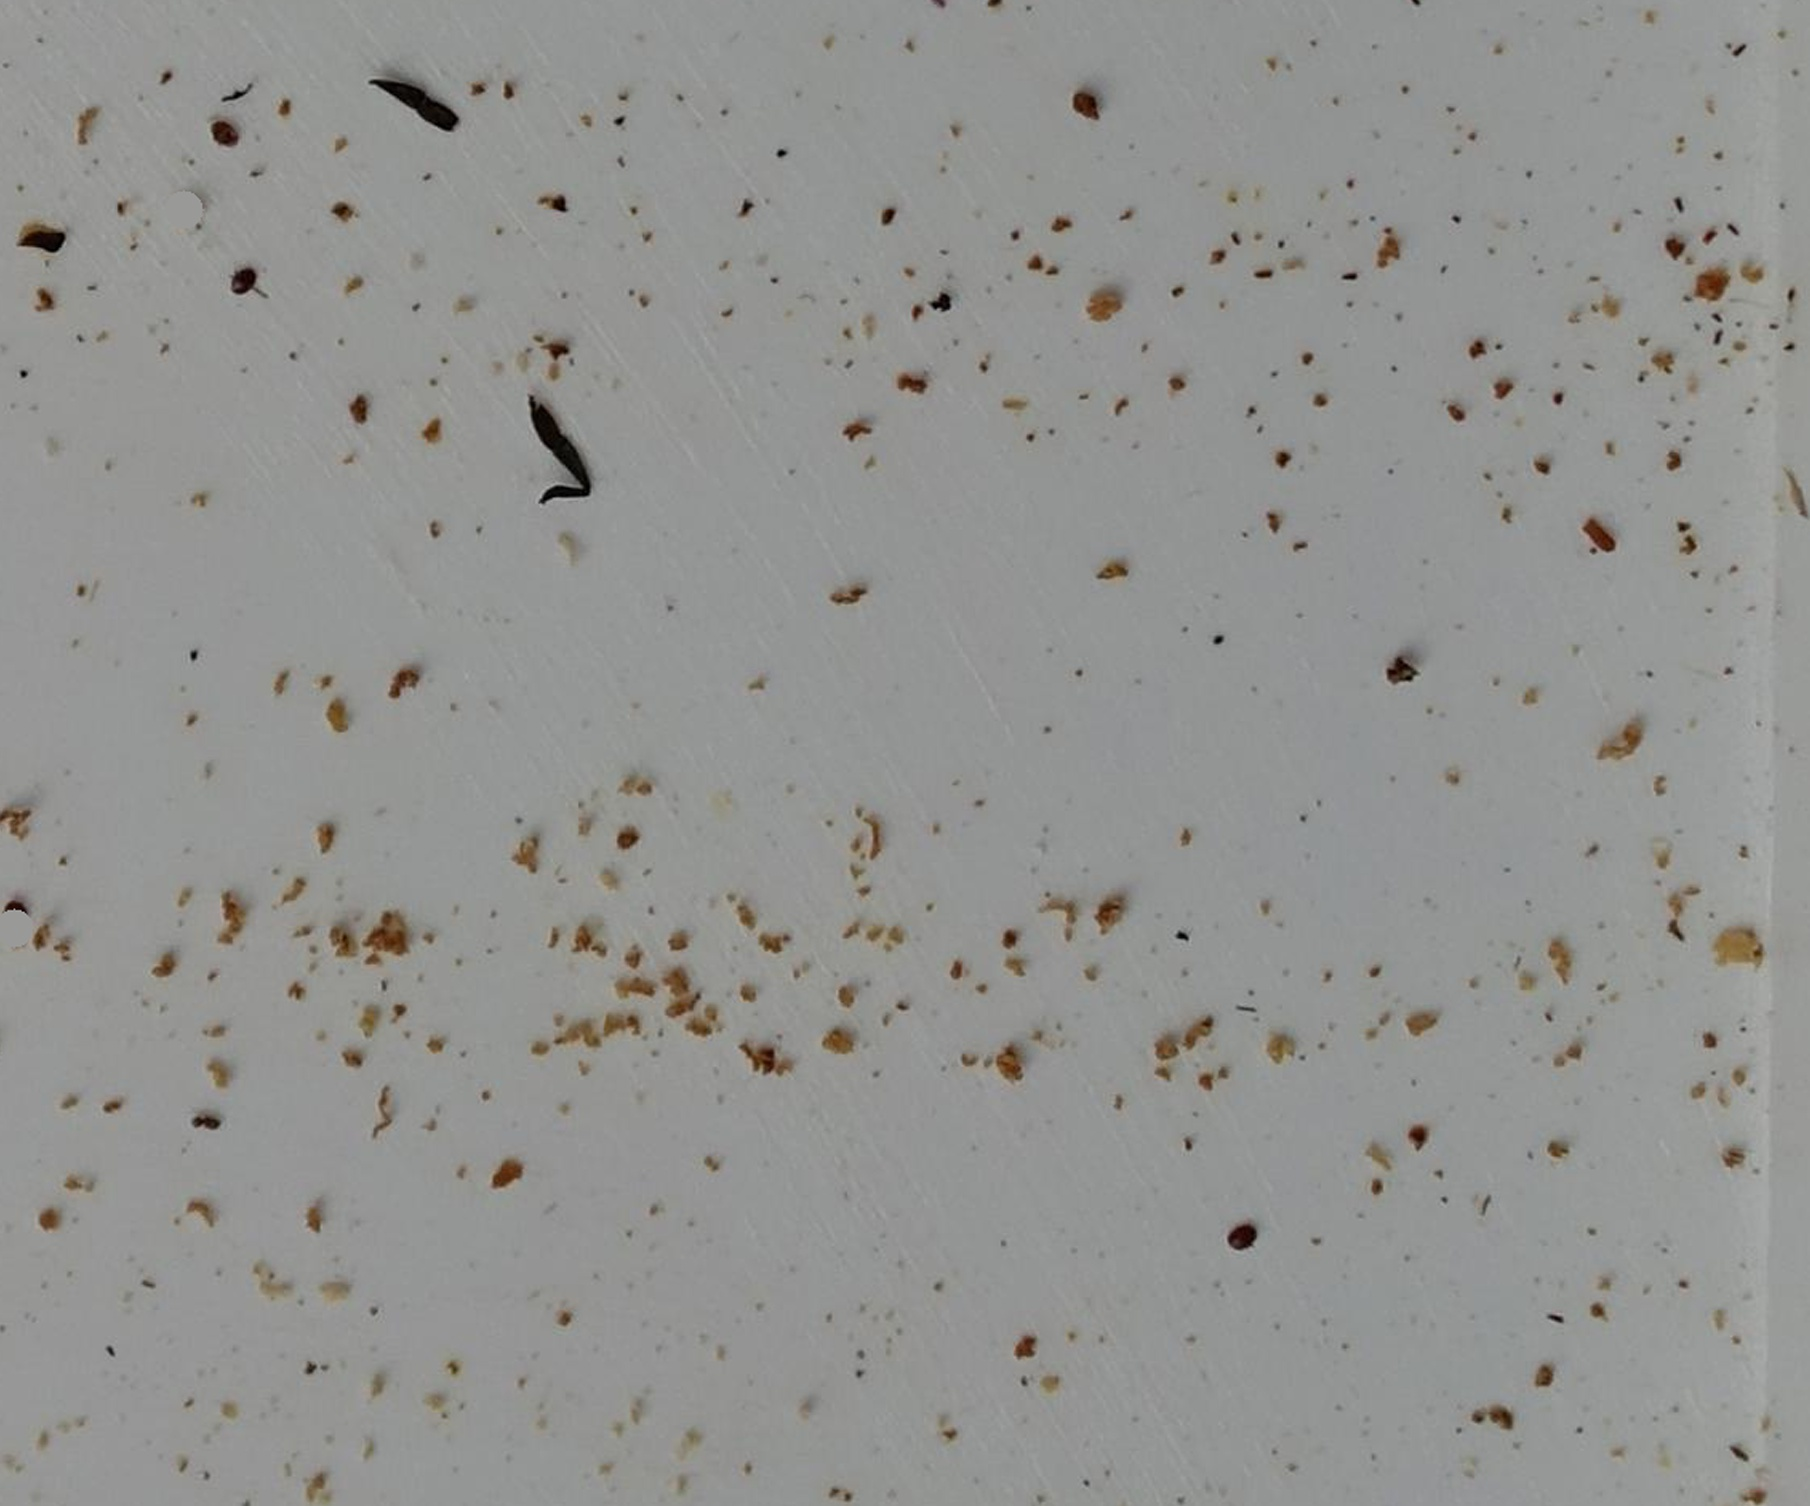Varroa: (224, 262, 253, 292), (1230, 1225, 1255, 1252), (8, 894, 32, 920), (210, 122, 235, 144)
